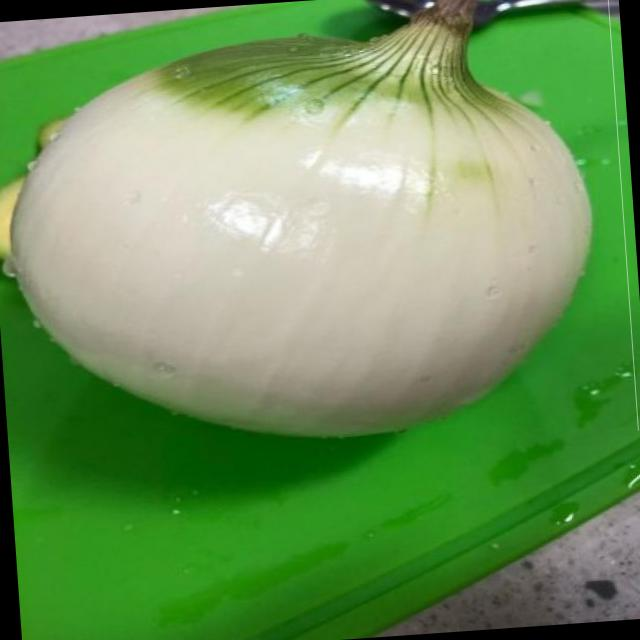Onion: (0, 0, 638, 474)
